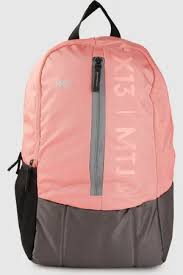backpack: (8, 0, 175, 268)
